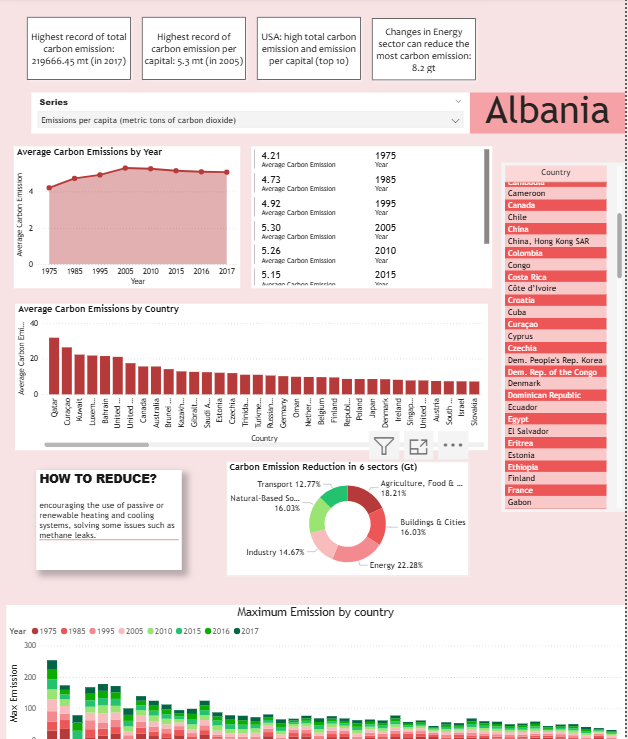

The dashboard page shown, as its layout file describes it:
{"tool":"powerbi","page":{"name":"Page 1","canvas":[1000,1400],"ordinal":0},"visuals":[{"type":"areaChart","title":"Average Carbon Emissions by Year","fields":{"Category":["Carbon Dioxide Emission Estimates.Year"],"Y":["Avg(Carbon Dioxide Emission Estimates.Value)"]},"box":[21.7,297.1,362.3,227.5],"z":0},{"type":"slicer","fields":{"Values":["Carbon Dioxide Emission Estimates.Series"]},"box":[49.3,211.6,701.4,65.2],"z":1000},{"type":"multiRowCard","fields":{"Values":["Carbon Dioxide Emission Estimates.Value","Carbon Dioxide Emission Estimates.Year"]},"box":[401.4,298.6,385.5,227.5],"z":2000},{"type":"clusteredColumnChart","title":"Average Carbon Emissions by Country","fields":{"Category":["Carbon Dioxide Emission Estimates.Country"],"Y":["Avg(Carbon Dioxide Emission Estimates.Value)"]},"box":[23.2,550.7,756.5,234.8],"z":3000},{"type":"donutChart","title":"Carbon Emission Reduction in 6 sectors (Gt)","fields":{"Y":["Avg(Sheet1.Reduced Carbon(Gt))"],"Series":["Sheet1.Type "]},"box":[362.3,802.9,388.4,184.1],"z":4000},{"type":"textbox","title":"HOW TO REDUCE?","box":[57.3,815.5,232.7,160],"z":5000},{"type":"shape","box":[33.3,10.1,736.2,59.4],"z":6000},{"type":"shape","box":[33.3,82.6,184.1,118.8],"z":7000},{"type":"shape","box":[217.4,82.6,184.1,118.8],"z":8000},{"type":"shape","box":[401.4,82.6,184.1,118.8],"z":9000},{"type":"shape","box":[585.5,84.1,184.1,117.4],"z":10000},{"type":"actionButton","box":[0,0,50.3,41.1],"z":11000},{"type":"tableEx","fields":{"Values":["Carbon Dioxide Emission Estimates.Country"]},"box":[801.1,324.4,198.9,558.9],"z":12000},{"type":"card","fields":{"Values":["Min(Carbon Dioxide Emission Estimates.Country)"]},"box":[751.1,211.1,248.9,65.6],"z":13000},{"type":"columnChart","title":"Maximum Emission by country","fields":{"Category":["Carbon Dioxide Emission Estimates.Country"],"Series":["Carbon Dioxide Emission Estimates.Year"],"Y":["Max(Carbon Dioxide Emission Estimates.Value)"]},"box":[10,1032.2,990,324.4],"z":13001}]}

Visuals, with their boxes on the page's 1000x1400 design canvas (x1, y1, x2, y2). These are canvas units, not pixel positions in the 628x739 screenshot, which may show the page scaled, cropped or inside an application window:
"Average Carbon Emissions by Year" areaChart: {"left": 22, "top": 297, "right": 384, "bottom": 525}
slicer - Carbon Dioxide Emission Estimates.Series: {"left": 49, "top": 212, "right": 751, "bottom": 277}
multiRowCard - Carbon Dioxide Emission Estimates.Value x Carbon Dioxide Emission Estimates.Year: {"left": 401, "top": 299, "right": 787, "bottom": 526}
"Average Carbon Emissions by Country" clusteredColumnChart: {"left": 23, "top": 551, "right": 780, "bottom": 786}
"Carbon Emission Reduction in 6 sectors (Gt)" donutChart: {"left": 362, "top": 803, "right": 751, "bottom": 987}
"HOW TO REDUCE?" textbox: {"left": 57, "top": 816, "right": 290, "bottom": 976}
shape: {"left": 33, "top": 10, "right": 770, "bottom": 70}
shape: {"left": 33, "top": 83, "right": 217, "bottom": 201}
shape: {"left": 217, "top": 83, "right": 402, "bottom": 201}
shape: {"left": 401, "top": 83, "right": 586, "bottom": 201}
shape: {"left": 586, "top": 84, "right": 770, "bottom": 202}
actionButton: {"left": 0, "top": 0, "right": 50, "bottom": 41}
tableEx - Carbon Dioxide Emission Estimates.Country: {"left": 801, "top": 324, "right": 1000, "bottom": 883}
card - Min(Carbon Dioxide Emission Estimates.Country): {"left": 751, "top": 211, "right": 1000, "bottom": 277}
"Maximum Emission by country" columnChart: {"left": 10, "top": 1032, "right": 1000, "bottom": 1357}
